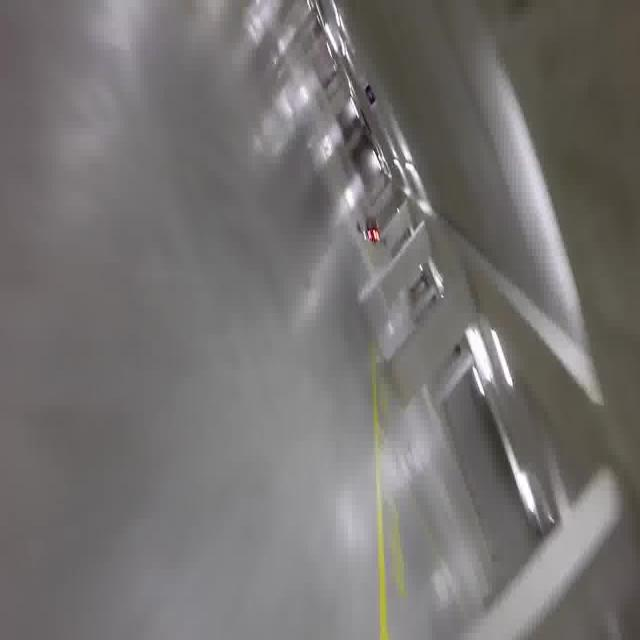drones: (350, 200, 388, 260)
